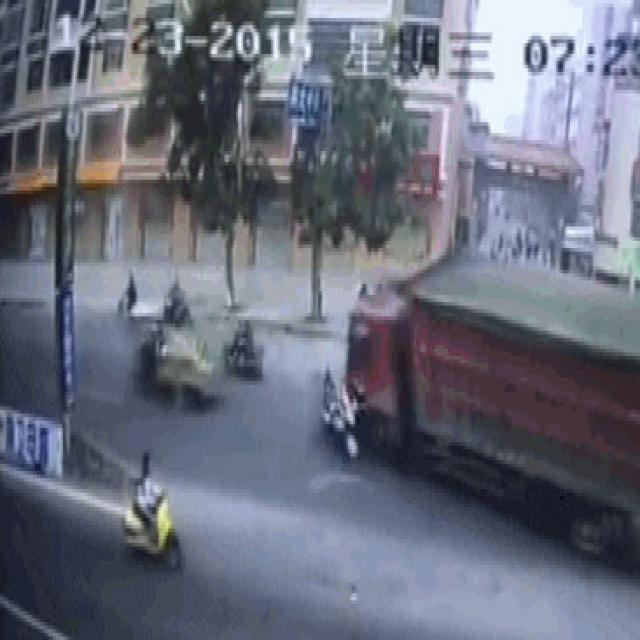multiple_accident: (317, 243, 640, 560)
normal: (93, 427, 207, 576)
